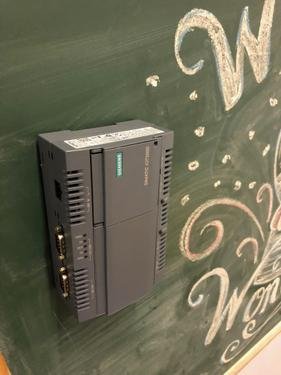device: (38, 120, 175, 323)
